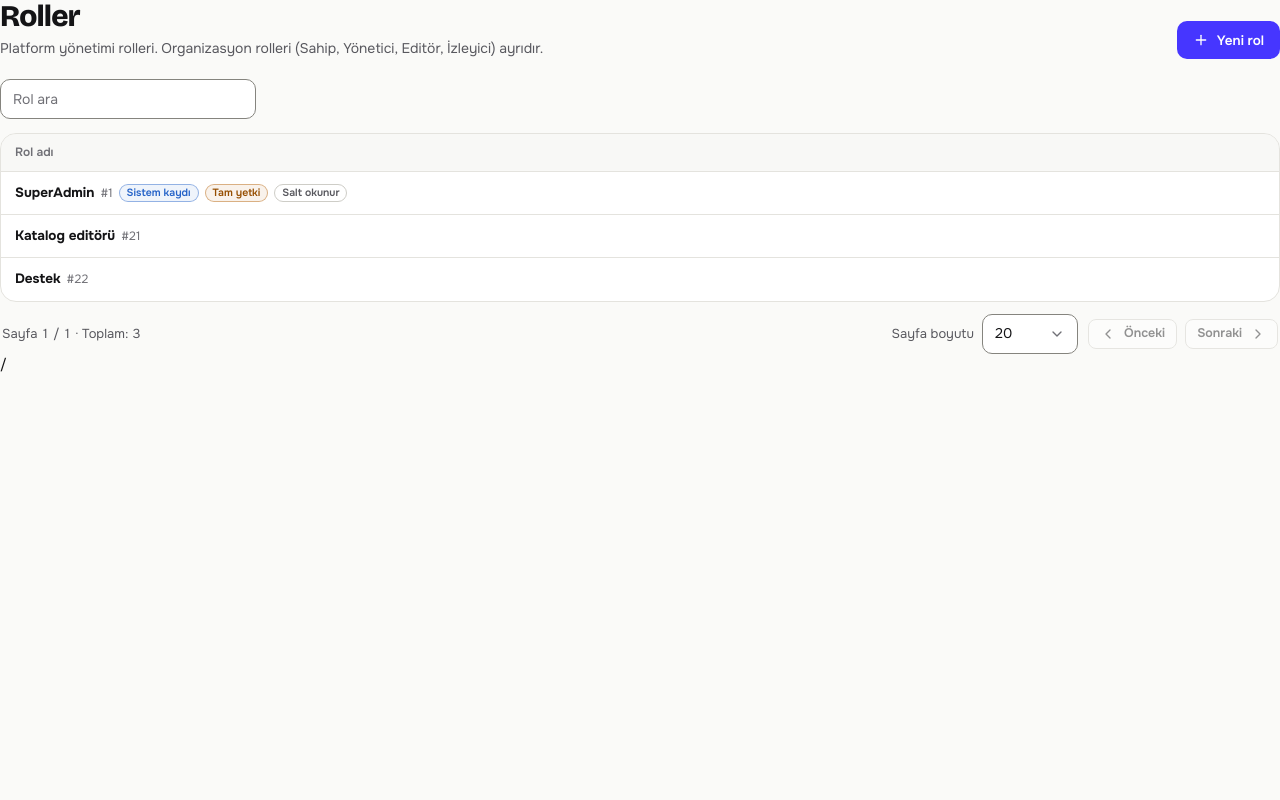
it: RolesPage › offers a retry when the catalog fails
Click the button "Yeni rol" at (1228, 40), box top-left (1177, 21), bottom-right (1279, 59)
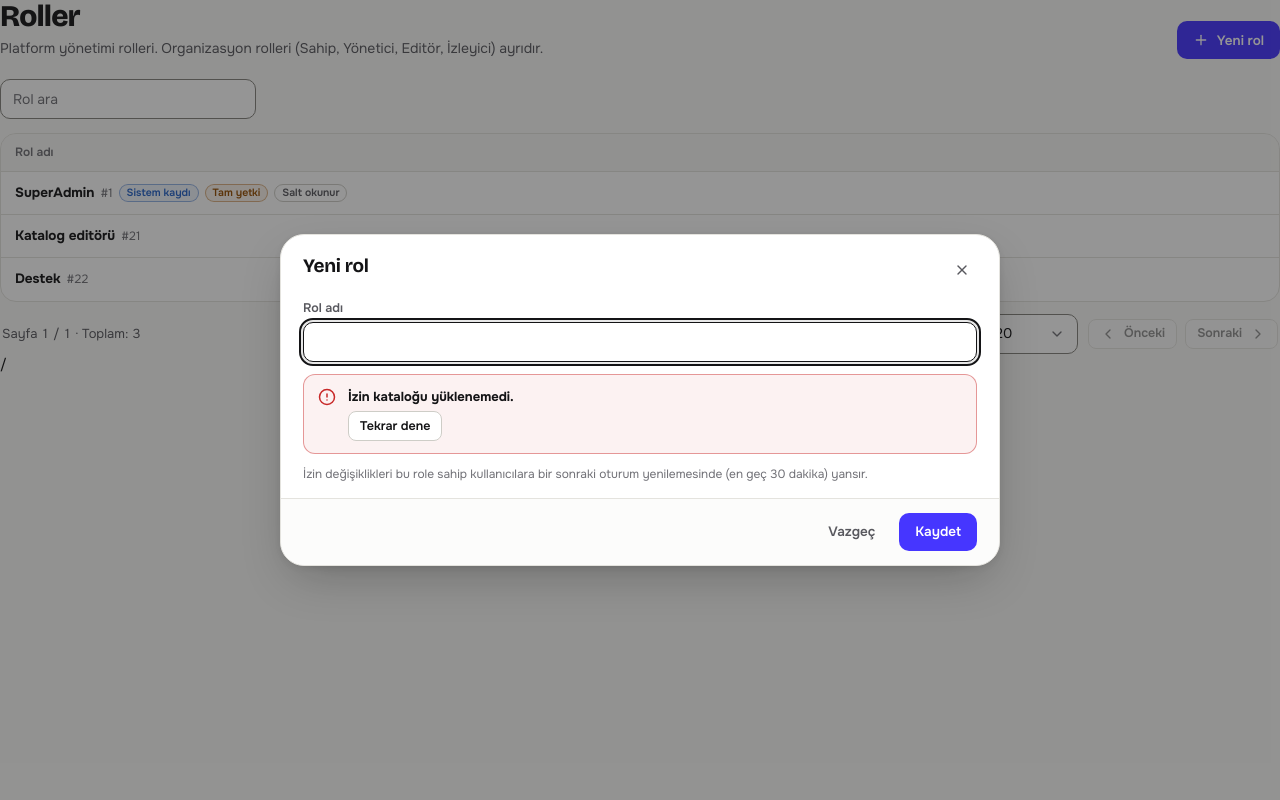
Now the text "İzin kataloğu yüklenemedi." is shown, box top-left (348, 387), bottom-right (514, 407)
Now the button "Tekrar dene" is shown, box top-left (348, 411), bottom-right (442, 441)
